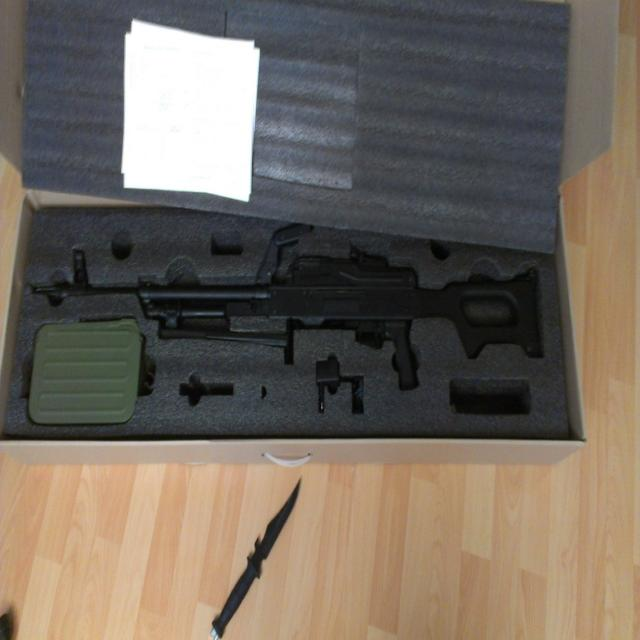firearm: (31, 249, 541, 392)
knife: (210, 477, 306, 640)
